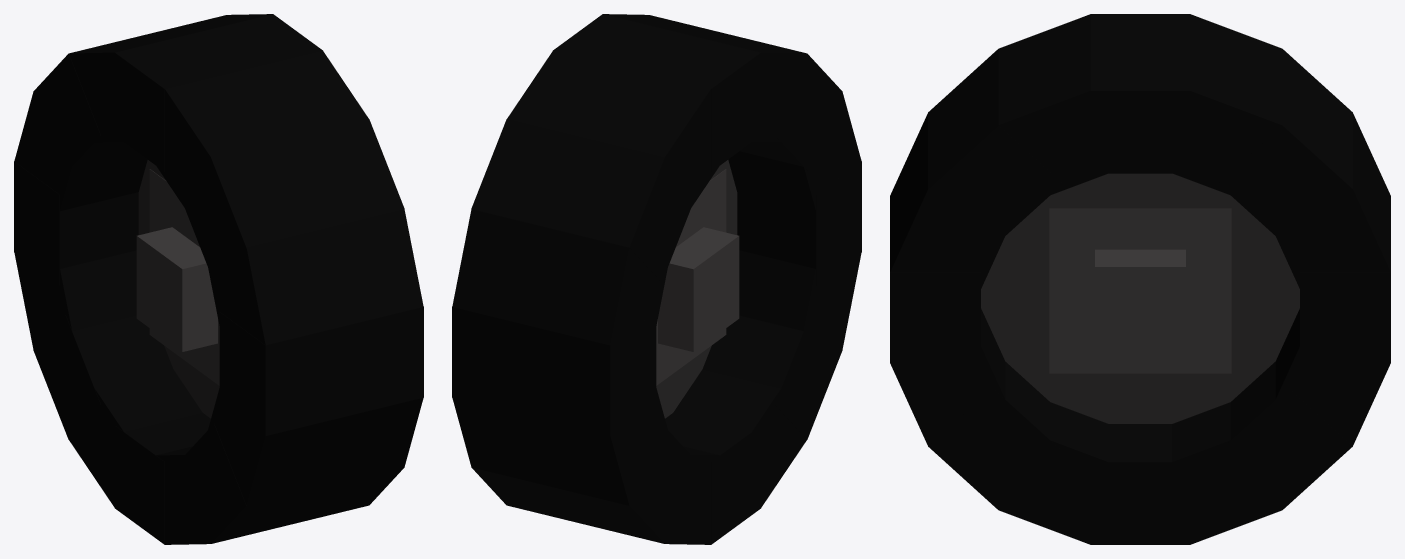
3 renders of one model, left to right at view 1: azimuth 30°, elevation 25°; view 2: azimuth 150°, elevation 25°; view 3: azimuth 270°, elevation 25°, orthographic.
Visible parts, largest first — view 1: 073f7208-eeef-9b08-57ce-5281fcac2d8d, 12db7f24-e9cc-a119-3412-e36e5e98e965, bd6ad19b-02b8-a0c7-fb64-4c2460377131, a2e1159b-3677-3e78-dfb0-7157cb65eeaa, 21491ff2-b846-faf2-a920-0191f41208e1, 8f43f5e0-fadd-4662-6390-c4fda7de8d6c, d76d2bc0-f3b7-6a0d-15d7-f0df03b55b77, b138ce42-2e62-9769-2fc0-cd0fd8f0c1b6, 414adc8c-9e13-7599-3c7c-2230b52e2c0f, 1334d79d-23cb-8c01-f9c2-5fc0ae63e51a, 9df810e4-03dc-bb6a-8d08-deb89921976e, 72767a0b-abfd-abd2-b25b-fd4339c8476d (+7 smaller); view 2: d1fb8e53-5ab5-c7f1-8872-af46242d0440, 8e820192-8b32-459d-6db0-78c0931d7c1b, 414adc8c-9e13-7599-3c7c-2230b52e2c0f, 92eec5c5-e331-110b-2637-7c9a606570e7, 9df810e4-03dc-bb6a-8d08-deb89921976e, 8f43f5e0-fadd-4662-6390-c4fda7de8d6c, b138ce42-2e62-9769-2fc0-cd0fd8f0c1b6, d76d2bc0-f3b7-6a0d-15d7-f0df03b55b77, bd6ad19b-02b8-a0c7-fb64-4c2460377131, 1334d79d-23cb-8c01-f9c2-5fc0ae63e51a, 21491ff2-b846-faf2-a920-0191f41208e1, 256ddd1a-1ff5-0aff-4638-3ff4303f4c6a (+7 smaller); view 3: a92ea831-fa78-34a7-f8e3-2a8edf71d51e, d1b21d05-9951-77f9-896b-4860a007b380, 8f43f5e0-fadd-4662-6390-c4fda7de8d6c, 073f7208-eeef-9b08-57ce-5281fcac2d8d, d1fb8e53-5ab5-c7f1-8872-af46242d0440, a2e1159b-3677-3e78-dfb0-7157cb65eeaa, 92eec5c5-e331-110b-2637-7c9a606570e7, 403258c7-a7dc-32f6-661a-659554dfab03, d76d2bc0-f3b7-6a0d-15d7-f0df03b55b77, b138ce42-2e62-9769-2fc0-cd0fd8f0c1b6, 1334d79d-23cb-8c01-f9c2-5fc0ae63e51a, bd6ad19b-02b8-a0c7-fb64-4c2460377131 (+7 smaller).
Boxes of the visible parts, x1,y1,x2,y2 form: 073f7208-eeef-9b08-57ce-5281fcac2d8d: (179,119,404,282); 12db7f24-e9cc-a119-3412-e36e5e98e965: (208,209,423,345); bd6ad19b-02b8-a0c7-fb64-4c2460377131: (219,307,423,435); a2e1159b-3677-3e78-dfb0-7157cb65eeaa: (156,50,368,207); 21491ff2-b846-faf2-a920-0191f41208e1: (208,388,423,505); 8f43f5e0-fadd-4662-6390-c4fda7de8d6c: (114,14,322,171); d76d2bc0-f3b7-6a0d-15d7-f0df03b55b77: (179,424,404,543); b138ce42-2e62-9769-2fc0-cd0fd8f0c1b6: (33,315,172,439); 414adc8c-9e13-7599-3c7c-2230b52e2c0f: (14,161,138,285); 1334d79d-23cb-8c01-f9c2-5fc0ae63e51a: (136,227,217,351); 9df810e4-03dc-bb6a-8d08-deb89921976e: (14,250,136,349); 72767a0b-abfd-abd2-b25b-fd4339c8476d: (69,369,202,507); d1fb8e53-5ab5-c7f1-8872-af46242d0440: (471,119,696,282); 8e820192-8b32-459d-6db0-78c0931d7c1b: (452,209,667,345); 414adc8c-9e13-7599-3c7c-2230b52e2c0f: (452,307,656,435); 92eec5c5-e331-110b-2637-7c9a606570e7: (507,50,719,207); 9df810e4-03dc-bb6a-8d08-deb89921976e: (452,388,667,505); 8f43f5e0-fadd-4662-6390-c4fda7de8d6c: (553,14,761,171); b138ce42-2e62-9769-2fc0-cd0fd8f0c1b6: (471,424,696,543); d76d2bc0-f3b7-6a0d-15d7-f0df03b55b77: (703,315,842,439); bd6ad19b-02b8-a0c7-fb64-4c2460377131: (737,161,861,285); 1334d79d-23cb-8c01-f9c2-5fc0ae63e51a: (658,227,739,351); 21491ff2-b846-faf2-a920-0191f41208e1: (739,250,861,349); 256ddd1a-1ff5-0aff-4638-3ff4303f4c6a: (673,369,806,507); a92ea831-fa78-34a7-f8e3-2a8edf71d51e: (981,173,1299,423); d1b21d05-9951-77f9-896b-4860a007b380: (1049,208,1231,373); 8f43f5e0-fadd-4662-6390-c4fda7de8d6c: (1090,14,1190,173); 073f7208-eeef-9b08-57ce-5281fcac2d8d: (928,49,1062,247); d1fb8e53-5ab5-c7f1-8872-af46242d0440: (1218,49,1352,247); a2e1159b-3677-3e78-dfb0-7157cb65eeaa: (998,14,1107,194); 92eec5c5-e331-110b-2637-7c9a606570e7: (1173,14,1282,194); 403258c7-a7dc-32f6-661a-659554dfab03: (1090,424,1190,544); d76d2bc0-f3b7-6a0d-15d7-f0df03b55b77: (928,362,1062,510); b138ce42-2e62-9769-2fc0-cd0fd8f0c1b6: (1218,362,1352,510); 1334d79d-23cb-8c01-f9c2-5fc0ae63e51a: (1095,249,1185,349); bd6ad19b-02b8-a0c7-fb64-4c2460377131: (890,272,980,362).
Bounding box in the file's own units: 0.25 × 0.6875 × 0.6875.
Materials: 1 (1 with a texture image).
